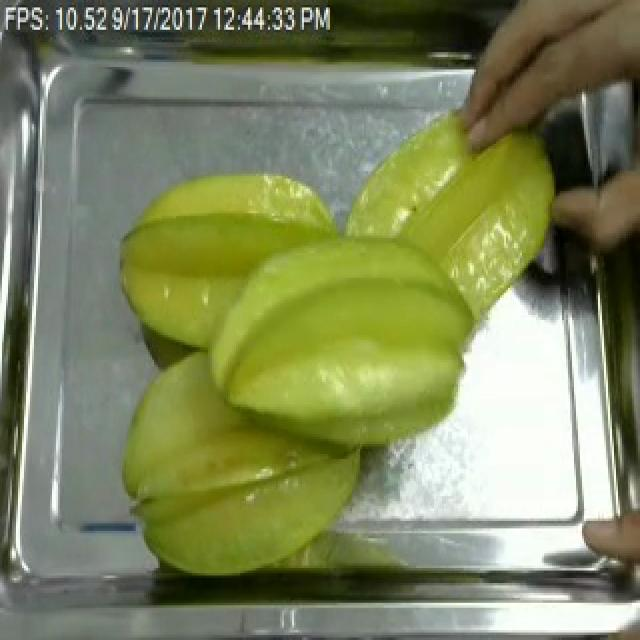fruit: (106, 156, 496, 518), (106, 350, 380, 593), (330, 104, 570, 335)
